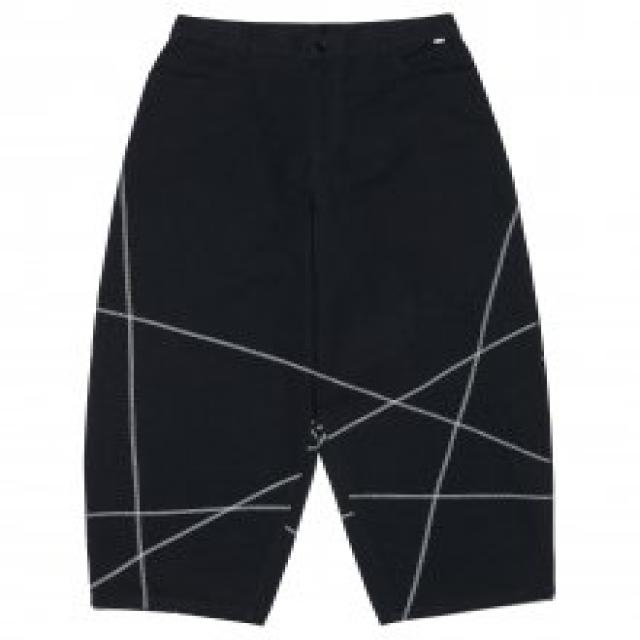long-pants: (80, 11, 558, 627)
